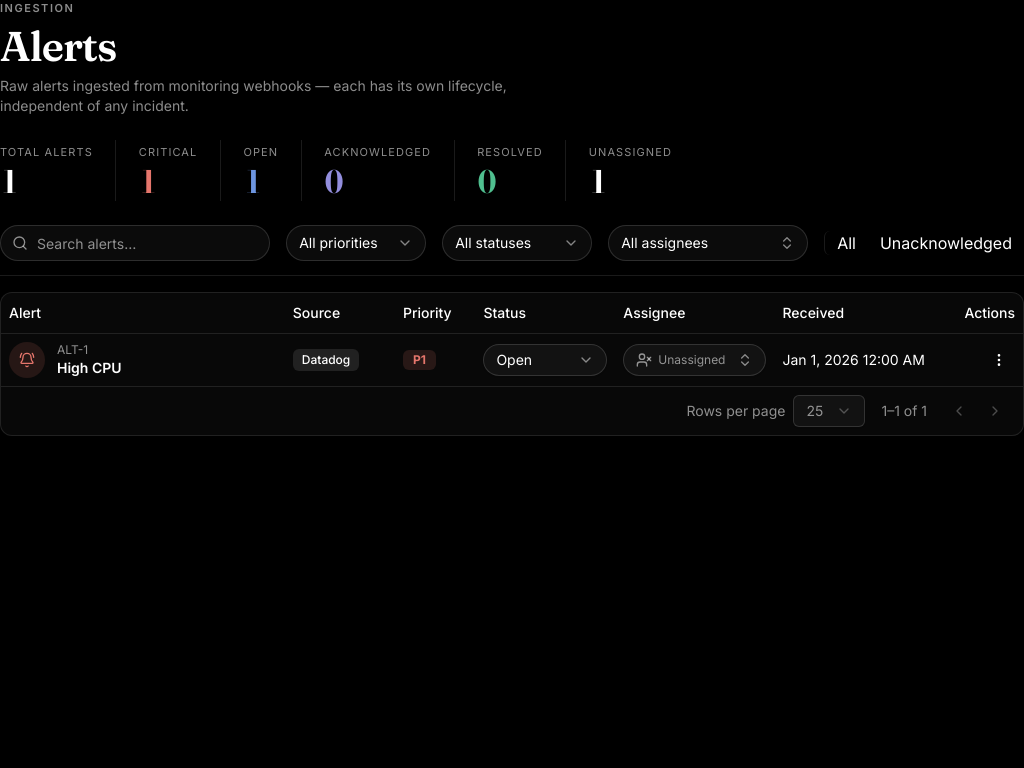
Scenario: AlertsPage — row actions menu › opens the link-to-incident dialog
Click the button named "More options".
click(999, 360)  # box top-left (983, 344), bottom-right (1015, 376)
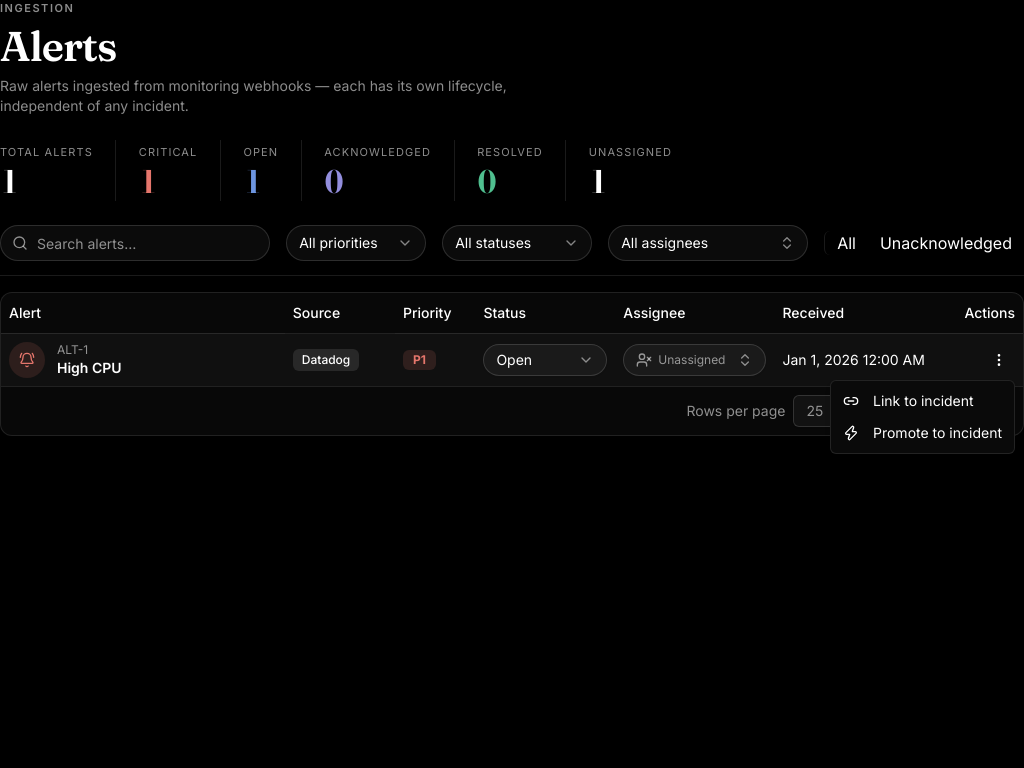
Click the menu item "Link to incident".
click(908, 400)  # box top-left (843, 392), bottom-right (974, 409)
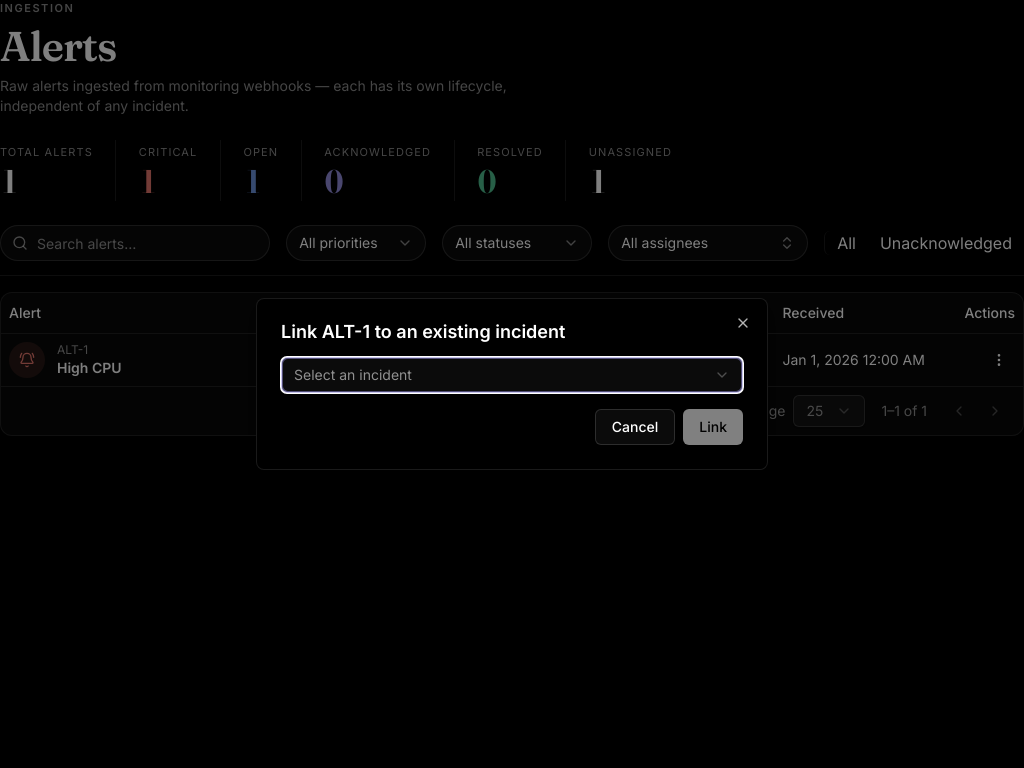
Result: the dialog is shown at top-left (256, 298), bottom-right (768, 470)
